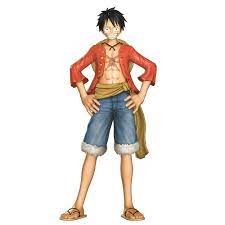Luffy: (97, 7, 126, 41)
